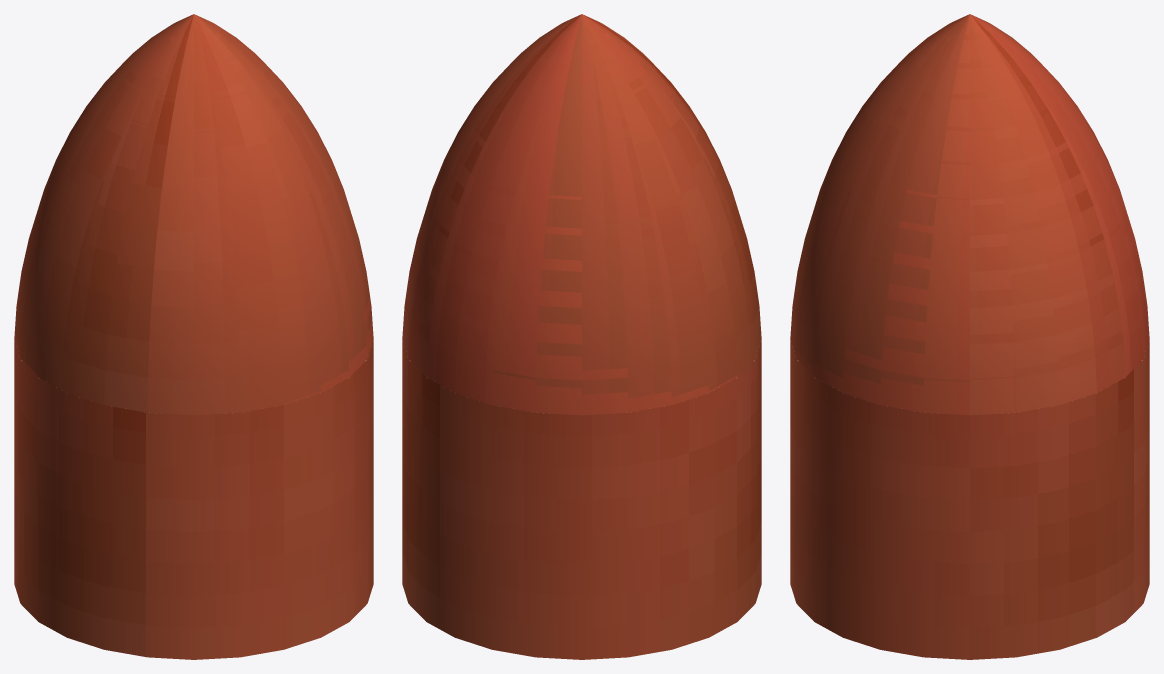
The model's file is bullet.dae.
3 views of the same model, side by side, from view 1: azimuth 30°, elevation 25°; view 2: azimuth 150°, elevation 25°; view 3: azimuth 270°, elevation 25° (orthographic).
Visible parts, largest first — view 1: group_0, SketchUp; view 2: group_0, SketchUp; view 3: group_0, SketchUp.
Part boxes in pixels (x1,y1,x2,y2): group_0: (14, 14, 373, 415); SketchUp: (14, 340, 373, 659); group_0: (402, 14, 761, 415); SketchUp: (402, 340, 761, 659); group_0: (790, 14, 1149, 415); SketchUp: (790, 340, 1149, 659).
Size of the model in its own units: 39.37 by 39.37 by 68.89.
3 materials, 2 textured.
